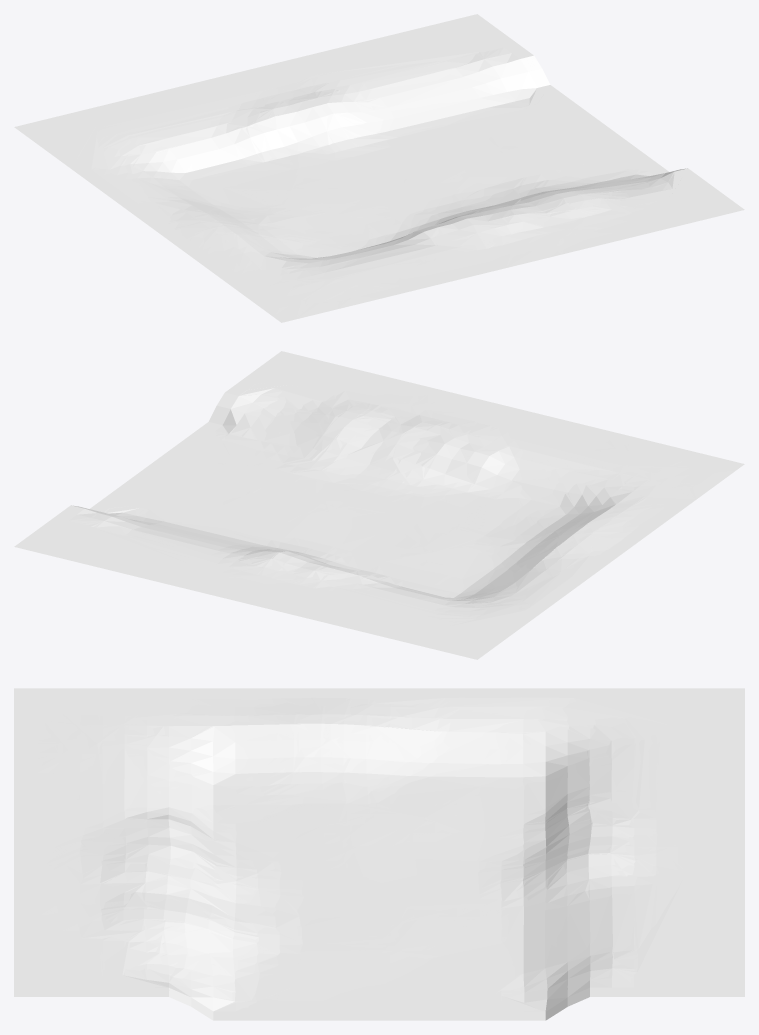
File: Road_5_Snowy.fbx
The picture shows the model from 3 angles, top to bottom: view 1: azimuth 30°, elevation 25°; view 2: azimuth 150°, elevation 25°; view 3: azimuth 270°, elevation 25°; orthographic projection. The views are drawn at different scales.
Parts seen in each view (by area): view 1: Road 5_LOD3_Snowy, Road 5_LOD0_Snowy, Road 5_LOD2_Snowy, Road 5_LOD1_Snowy; view 2: Road 5_LOD3_Snowy, Road 5_LOD0_Snowy, Road 5_LOD2_Snowy, Road 5_LOD1_Snowy; view 3: Road 5_LOD3_Snowy, Road 5_LOD0_Snowy, Road 5_LOD2_Snowy, Road 5_LOD1_Snowy.
Boxes of the visible parts, x1,y1,x2,y2 form: Road 5_LOD3_Snowy: (77,32,688,319); Road 5_LOD0_Snowy: (14,14,744,322); Road 5_LOD2_Snowy: (79,32,689,319); Road 5_LOD1_Snowy: (17,18,744,309); Road 5_LOD3_Snowy: (40,365,736,628); Road 5_LOD0_Snowy: (14,351,744,659); Road 5_LOD2_Snowy: (39,365,729,629); Road 5_LOD1_Snowy: (83,351,716,658); Road 5_LOD3_Snowy: (14,688,695,1020); Road 5_LOD0_Snowy: (14,688,744,1020); Road 5_LOD2_Snowy: (14,688,702,1020); Road 5_LOD1_Snowy: (14,688,744,1020).
Size of the model in its own units: 1000 by 44.71 by 1000.
